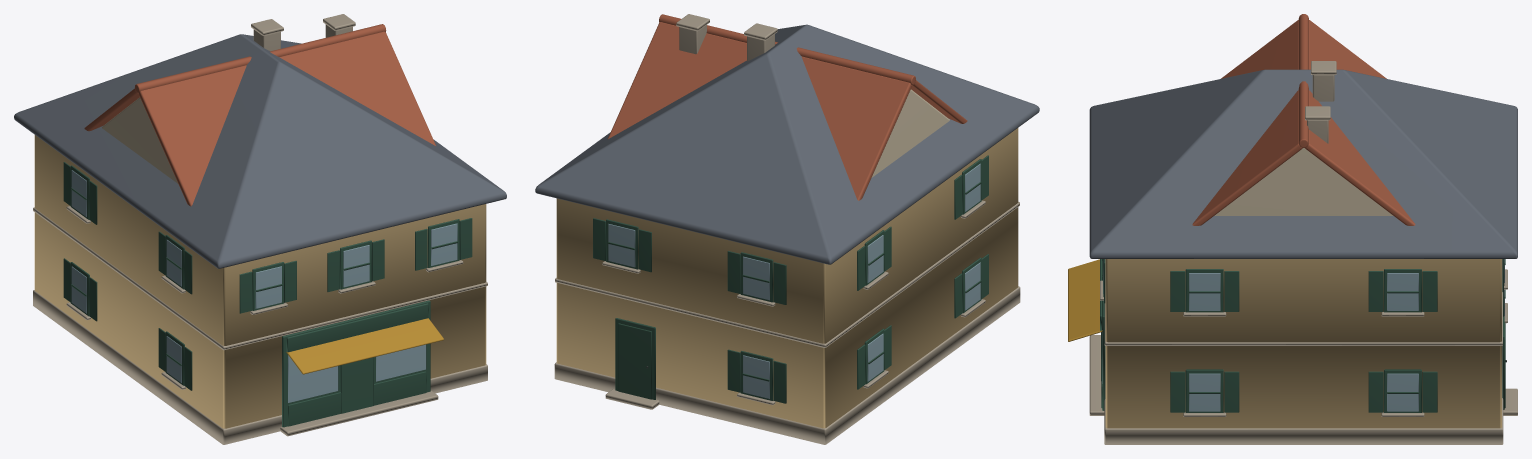
Rendered from houses.glb.
The picture shows the model from 3 angles, left to right: view 1: azimuth 30°, elevation 25°; view 2: azimuth 150°, elevation 25°; view 3: azimuth 270°, elevation 25°; orthographic projection. The views are drawn at different scales.
Visible parts, largest first — view 1: shop-front_walls, shop-front_roof, house-town_roof, house-town_walls; view 2: shop-front_walls, shop-front_roof, house-town_roof, house-town_walls; view 3: shop-front_walls, shop-front_roof, house-town_roof, house-town_walls.
Boxes of the visible parts, x1,y1,x2,y2 form: shop-front_walls: (33,135,487,444); shop-front_roof: (14,19,506,268); house-town_roof: (84,14,435,206); house-town_walls: (102,97,178,183); shop-front_walls: (554,128,1020,444); shop-front_roof: (535,23,1039,264); house-town_roof: (607,14,967,200); house-town_walls: (871,89,949,177); shop-front_walls: (1068,259,1517,444); shop-front_roof: (1089,61,1517,258); house-town_roof: (1192,14,1415,225); house-town_walls: (1214,148,1393,215).
Bounding box in the file's own units: 8.8 × 8.9 × 11.35.
